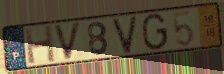5: (171, 9, 197, 47)
8: (86, 21, 109, 56)
G: (141, 12, 169, 53)
H: (23, 23, 57, 66)
V: (52, 21, 83, 62), (111, 14, 139, 55)
